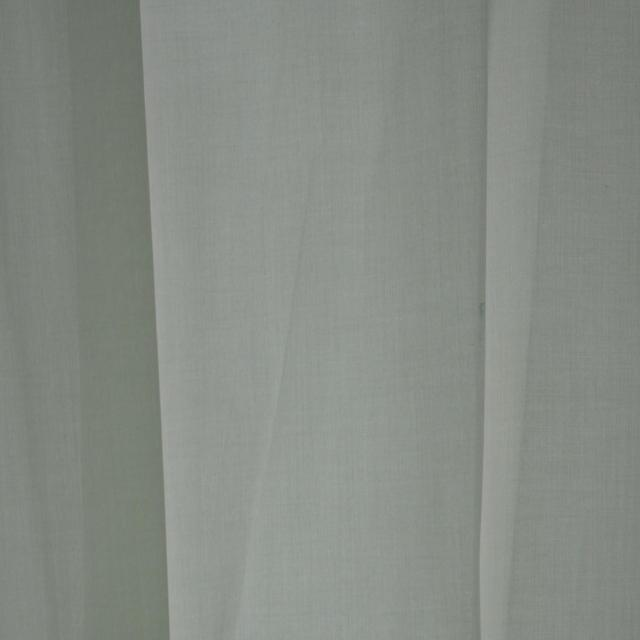dirty: (479, 301, 485, 316)
